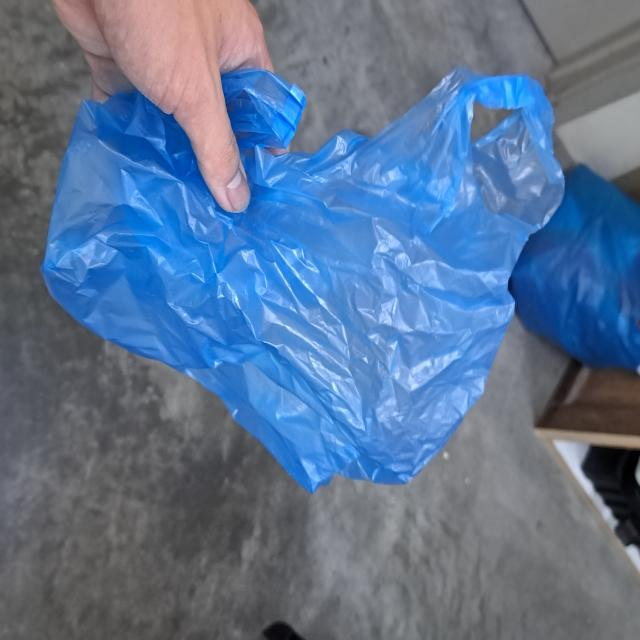plastic bag: (43, 63, 568, 495), (507, 164, 640, 378)
